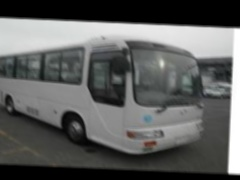bus: (0, 30, 207, 156)
